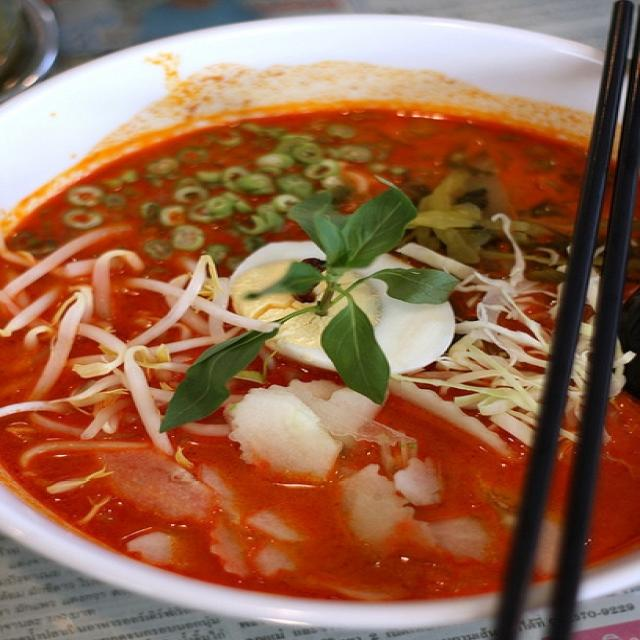面条主食: (3, 11, 634, 632)
